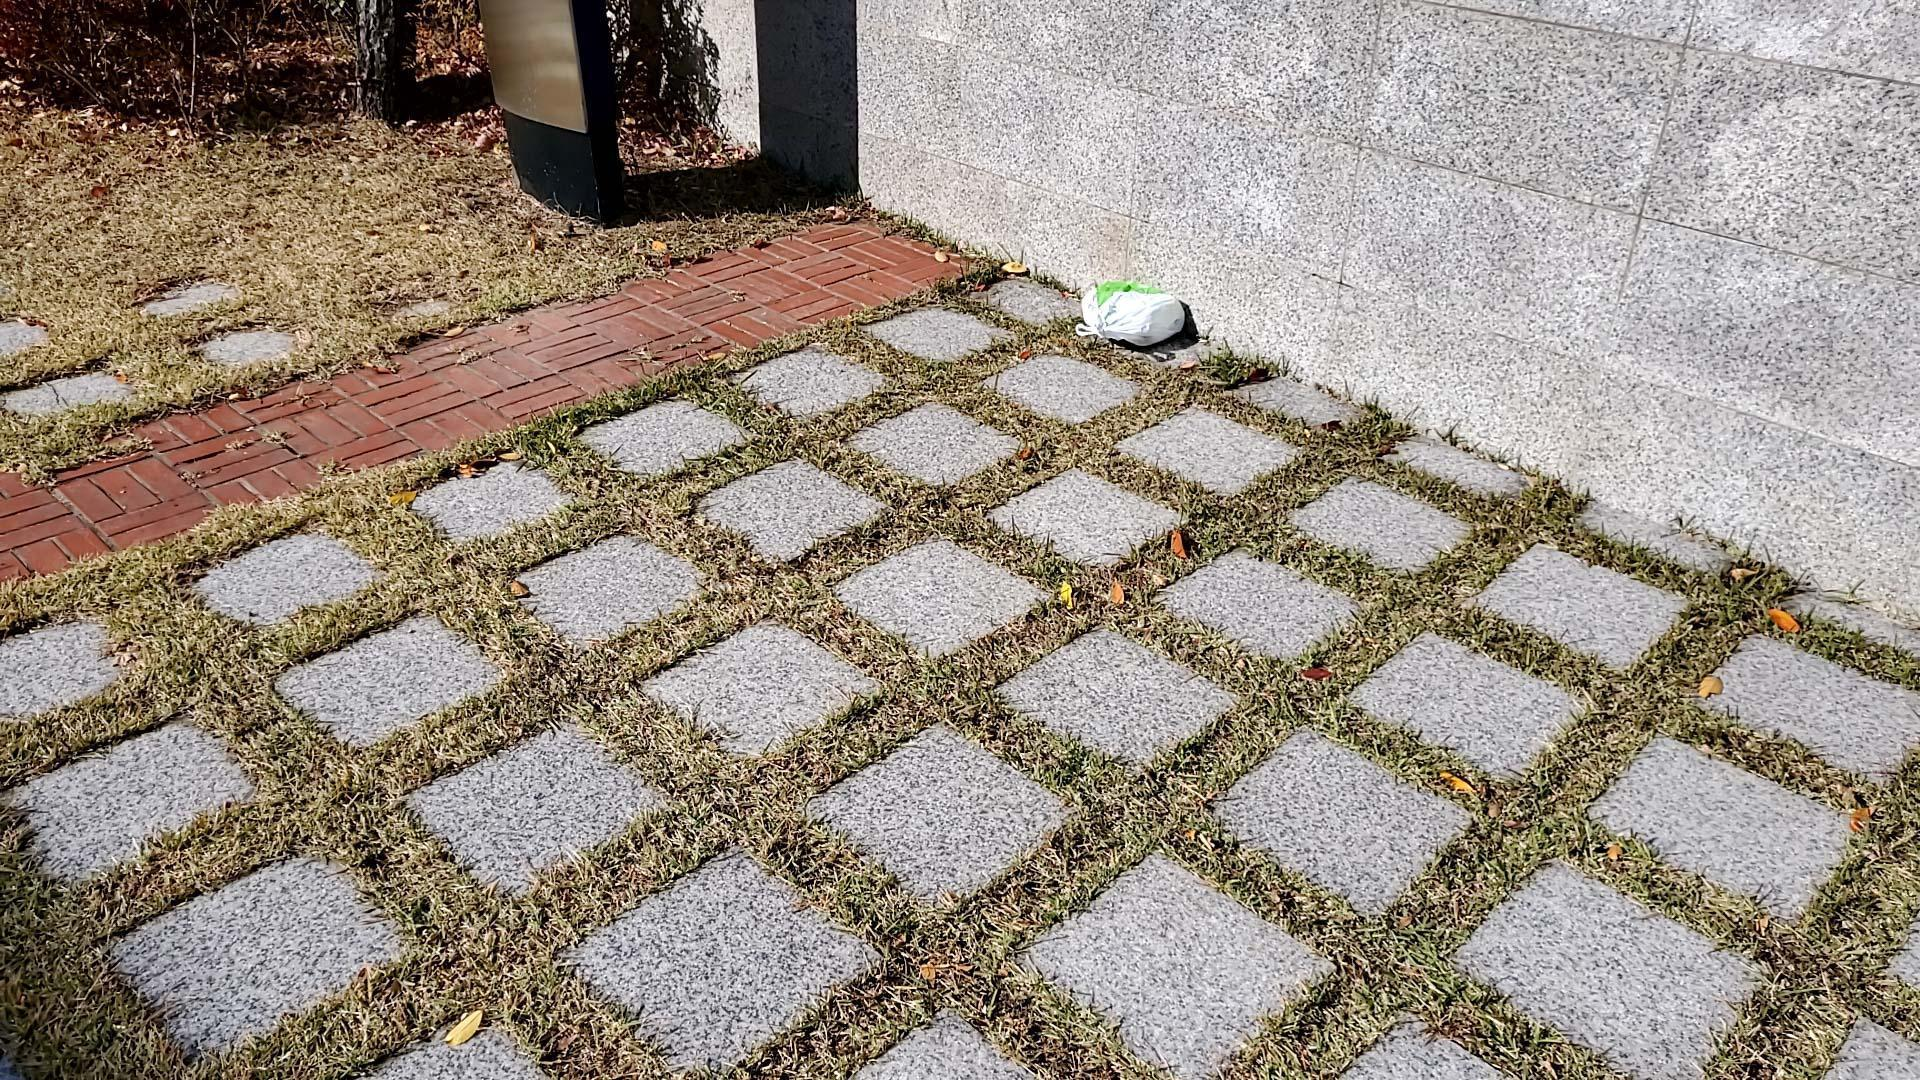white_bag: (1065, 274, 1191, 357)
